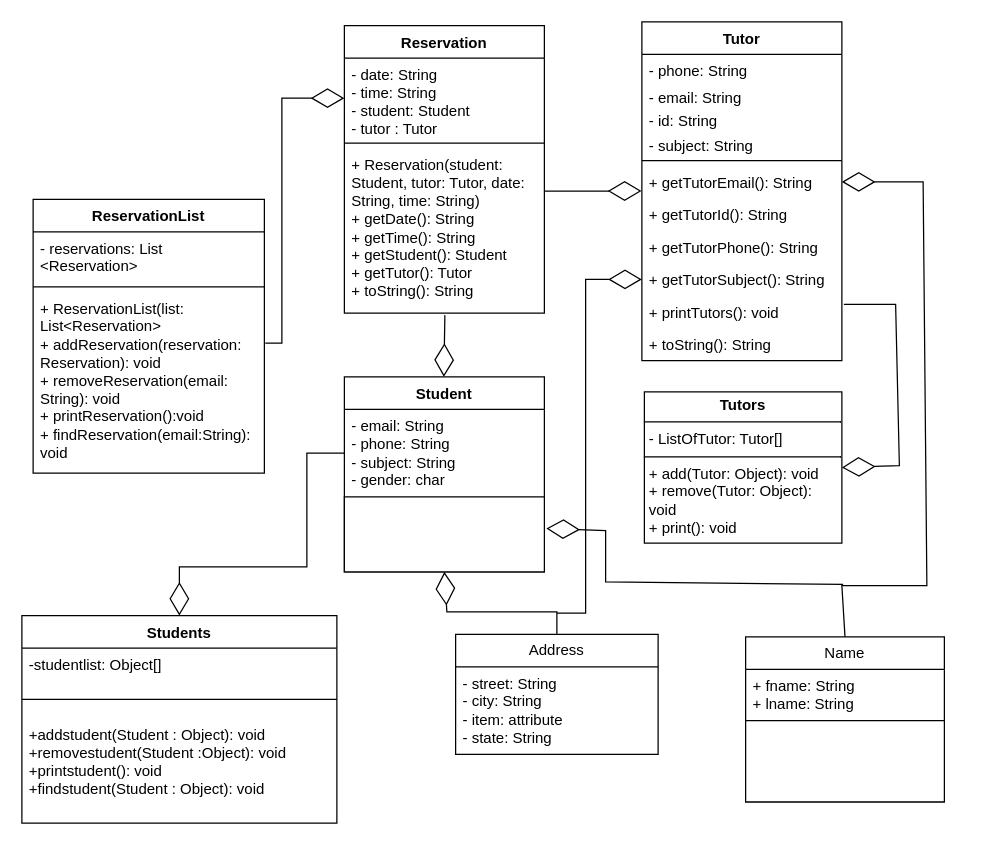
The diagram is 981 pixels wide and 849 high, and some of its shapes have lost their labels. The centre of each missing label's shape, as x and y in pixels:
+ getStudentEmail(): String + getStudentPhone(): String + toString(): String: point (443, 534)
- getFirstName(): String - getFirstName(): String: point (844, 760)
